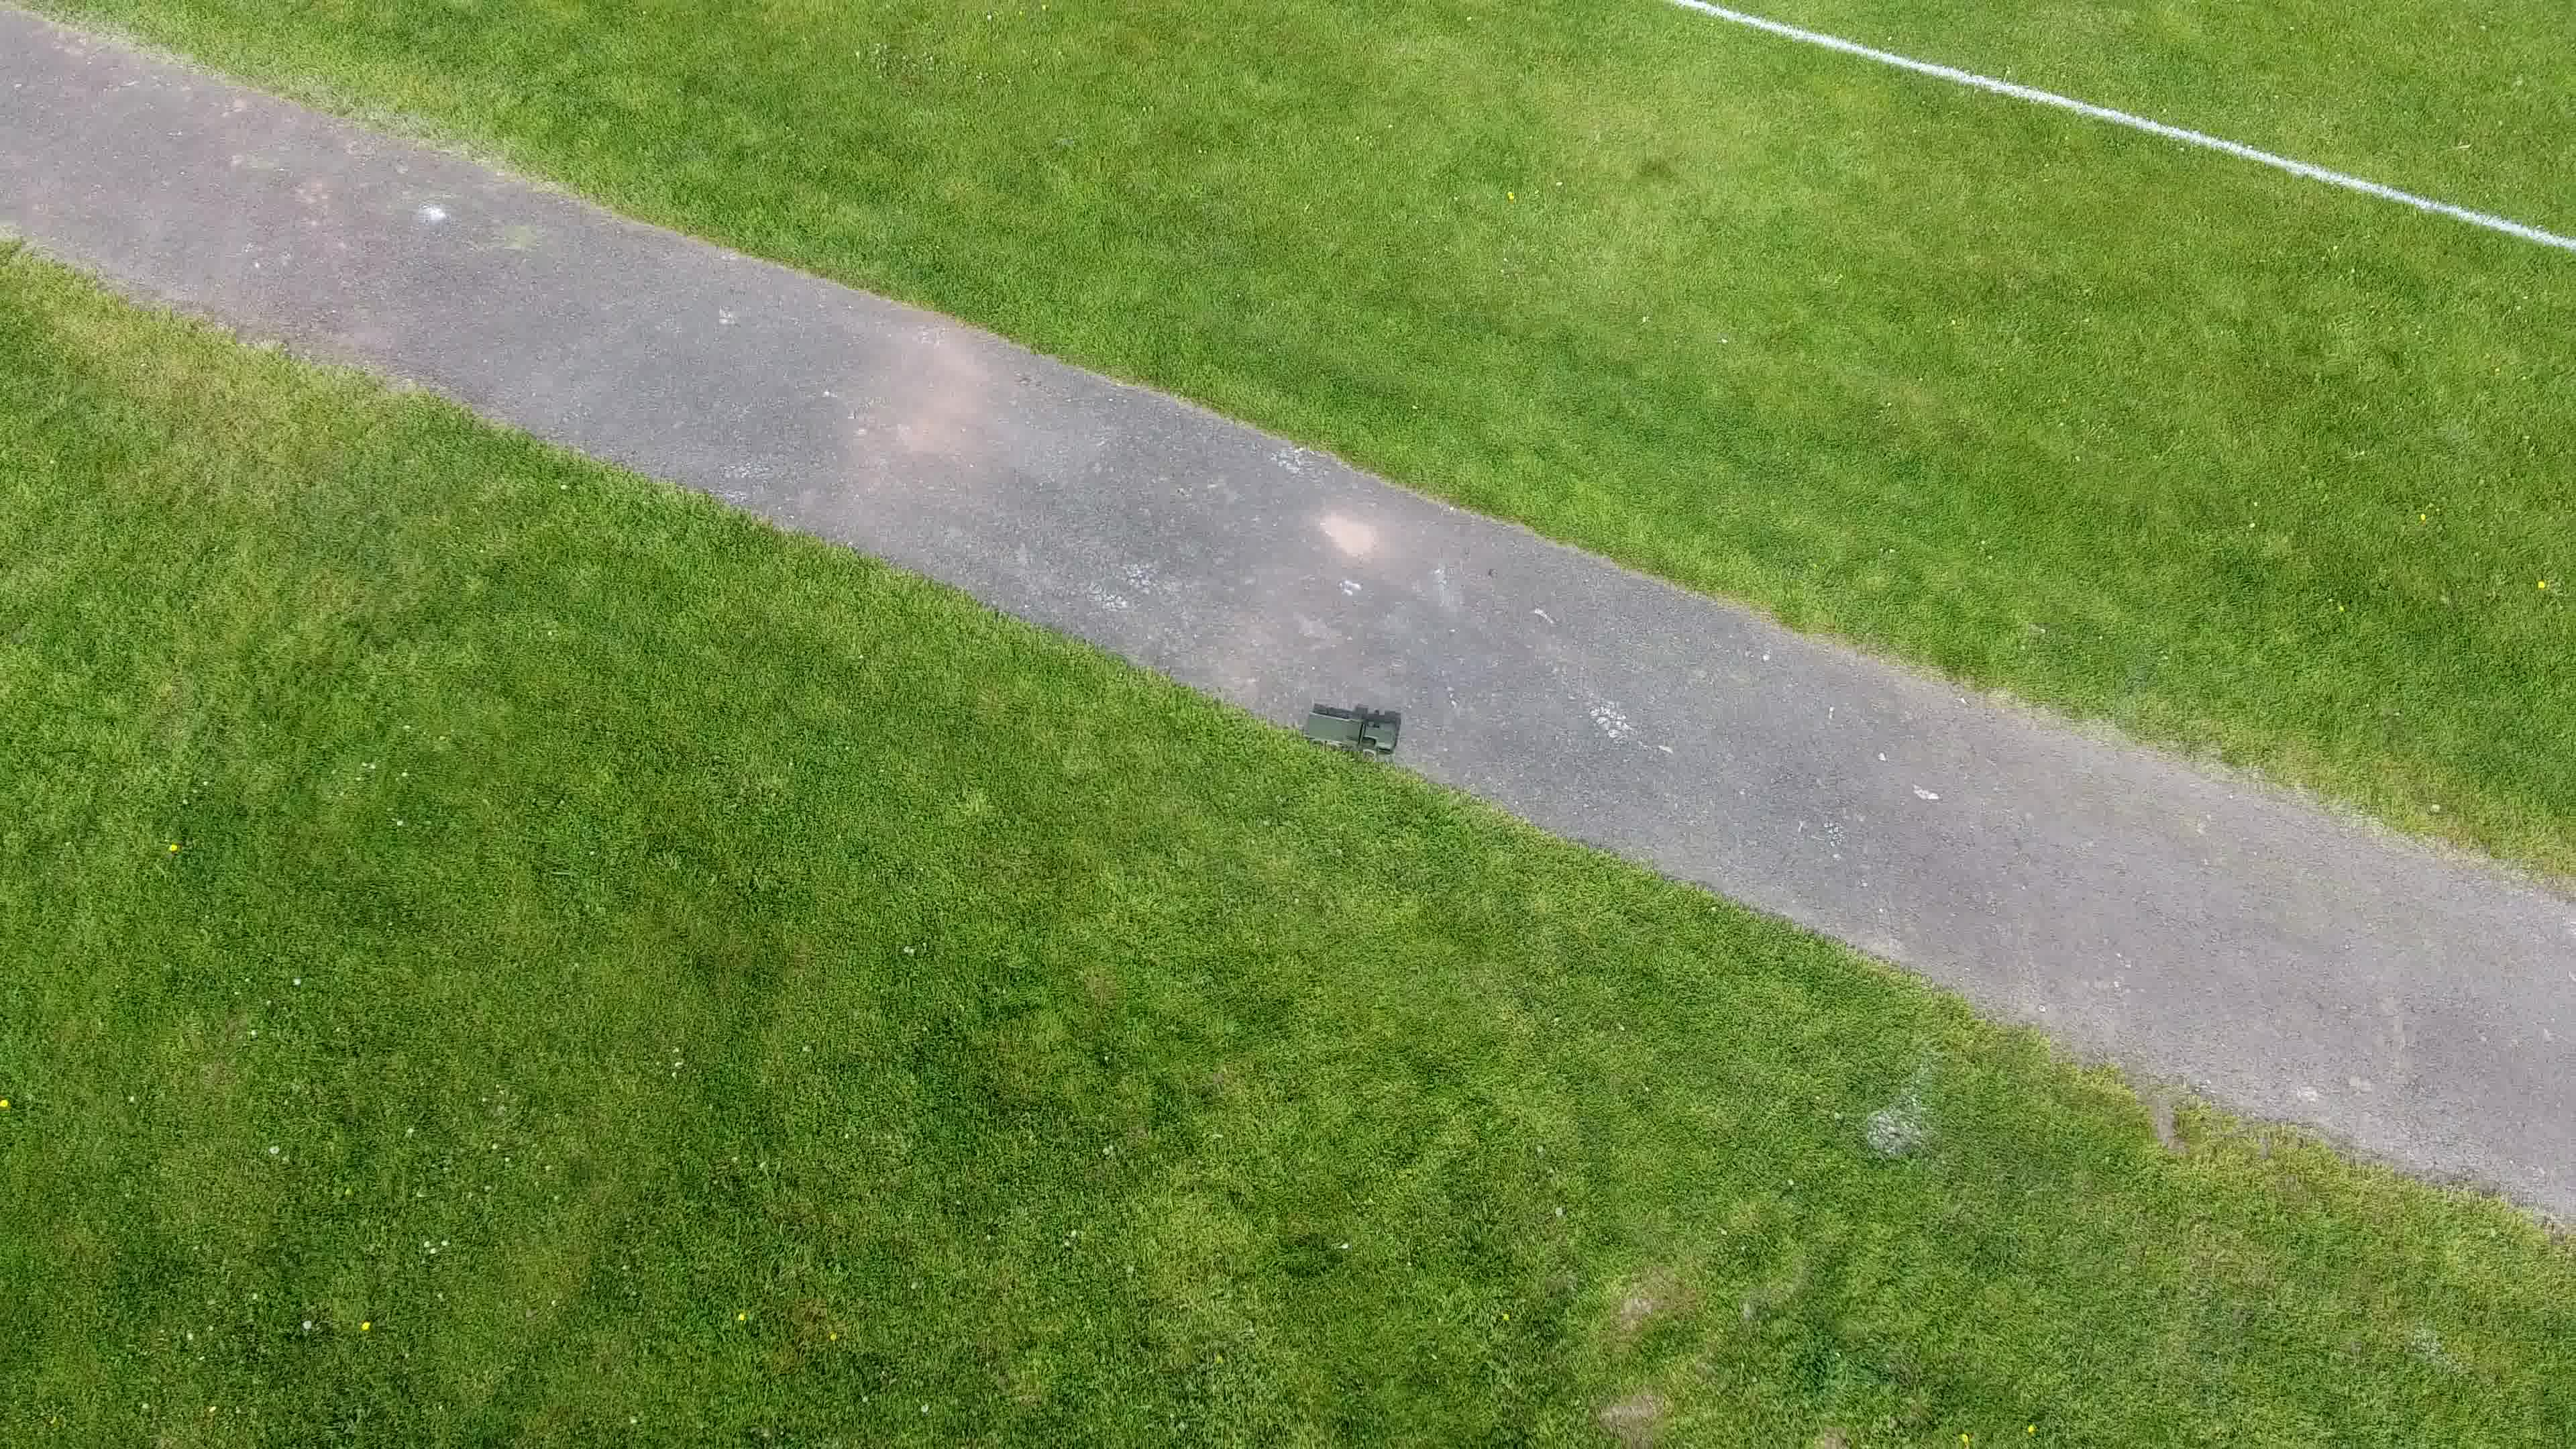transporter9: (1299, 708, 1399, 757)
